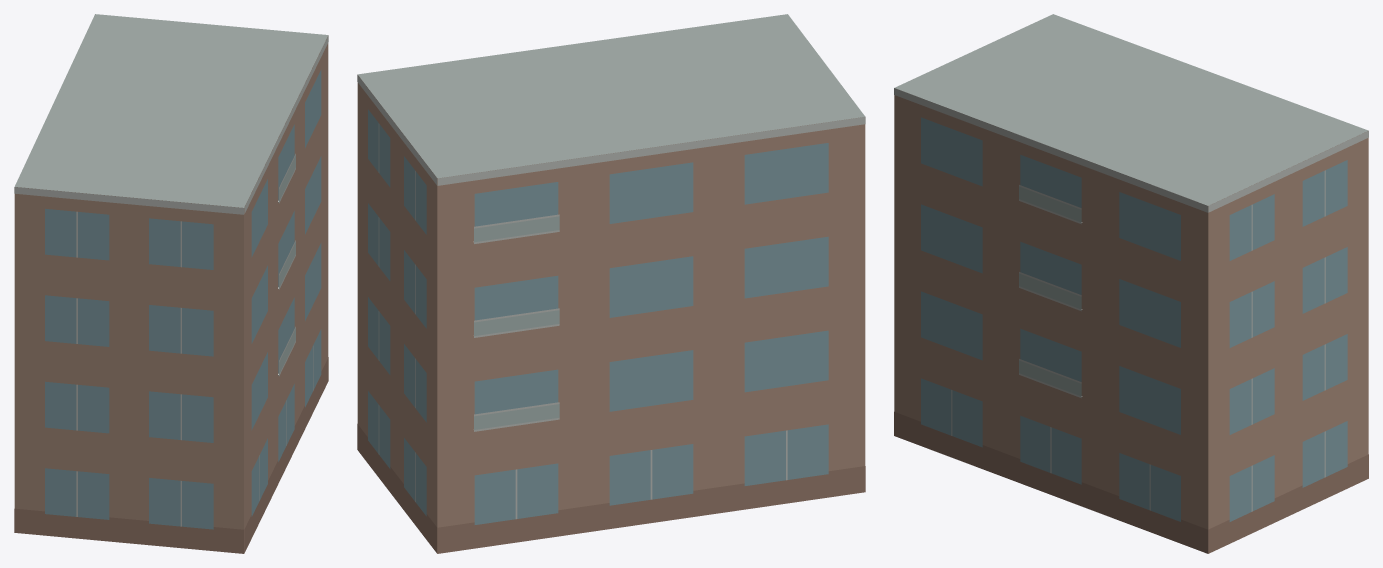
The model's file is survey-upis-32885622.glb.
3 renders of one model, left to right at view 1: azimuth 30°, elevation 25°; view 2: azimuth 150°, elevation 25°; view 3: azimuth 270°, elevation 25°, orthographic. The views are drawn at different scales.
Parts seen in each view (by area): view 1: survey-upis-32885622.tmp; view 2: survey-upis-32885622.tmp; view 3: survey-upis-32885622.tmp.
Part boxes in pixels (x1=…): survey-upis-32885622.tmp: x1=14, y1=14, x2=328, y2=553; survey-upis-32885622.tmp: x1=357, y1=14, x2=865, y2=553; survey-upis-32885622.tmp: x1=894, y1=14, x2=1368, y2=553.
Bounding box in the file's own units: 14.44 × 12.2 × 15.09.
